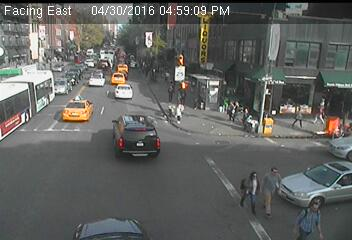neg: (8, 36, 37, 75), (211, 67, 236, 100), (246, 110, 267, 137), (77, 56, 95, 79), (43, 44, 60, 68), (261, 117, 278, 139), (62, 35, 79, 57), (137, 58, 151, 77), (122, 45, 135, 62), (100, 63, 112, 80), (156, 57, 167, 71), (94, 43, 104, 57), (111, 43, 120, 55)
pos: (253, 165, 293, 219), (233, 165, 270, 215), (294, 196, 327, 239), (184, 82, 207, 112), (289, 103, 311, 132), (169, 100, 189, 127), (312, 102, 330, 126), (163, 79, 180, 102), (177, 85, 190, 102)
